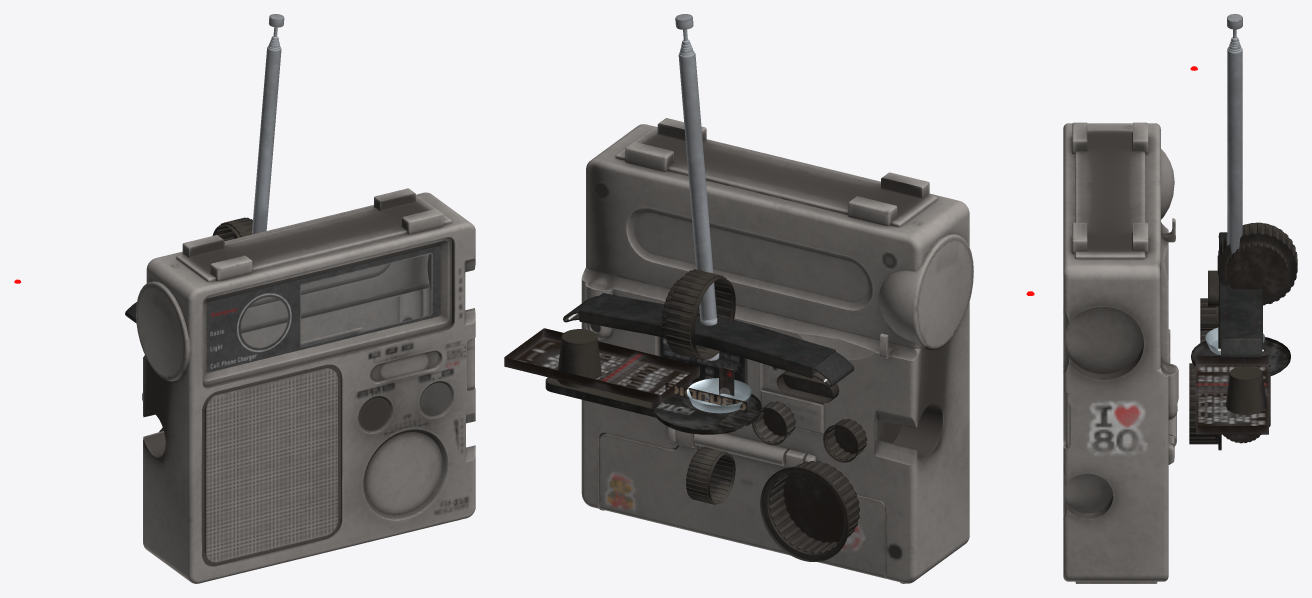
Rendered from grundig-radio-fr-250-free-am-fm-sw-a8d7fe.glb.
3 views of the same model, side by side, from view 1: azimuth 30°, elevation 25°; view 2: azimuth 150°, elevation 25°; view 3: azimuth 270°, elevation 25° (orthographic). The views are drawn at different scales.
Parts seen in each view (by area): view 1: PropMesh; view 2: PropMesh; view 3: PropMesh.
Boxes of the visible parts, x1,y1,x2,y2 form: PropMesh: (14, 14, 475, 583); PropMesh: (504, 14, 1034, 583); PropMesh: (1063, 14, 1297, 583).
Size of the model in its own units: 2.03 by 2.2 by 0.916.
1 material, 1 textured.
